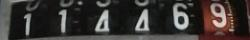digits: (171, 2, 191, 31), (134, 9, 152, 36), (209, 2, 227, 26), (94, 8, 110, 35), (58, 8, 68, 36), (23, 12, 32, 34)
